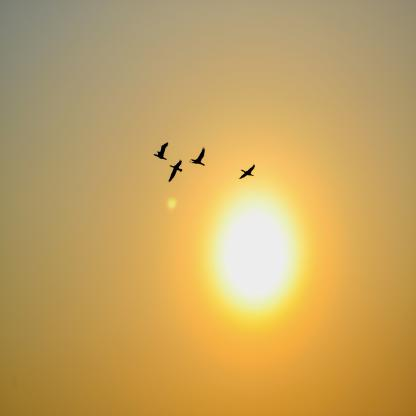bird: (168, 159, 182, 183), (190, 146, 205, 166), (238, 164, 255, 180), (153, 142, 168, 160)
